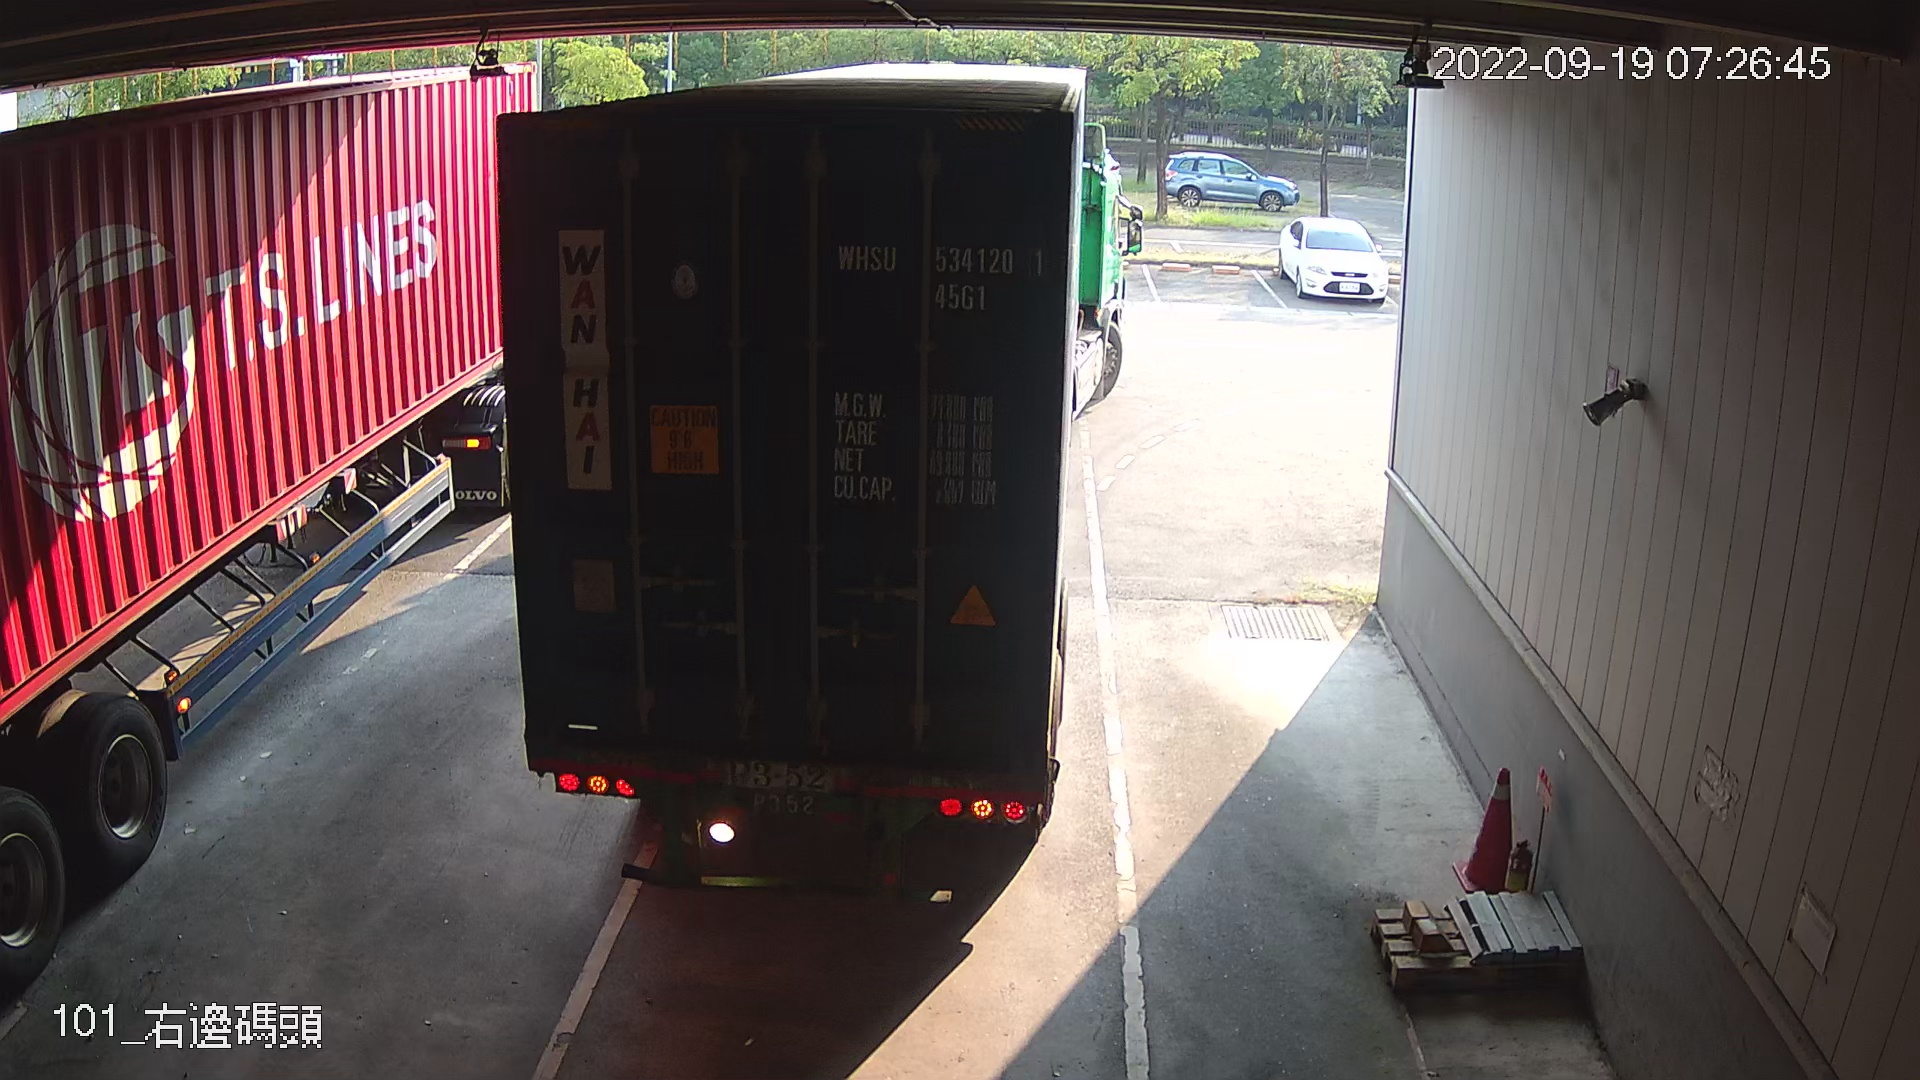container: (832, 233, 1051, 320)
